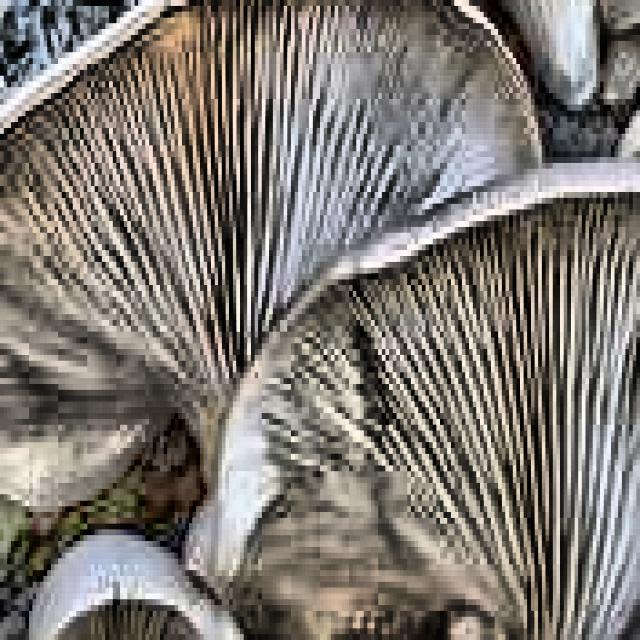Affected: (472, 232, 632, 640), (173, 22, 283, 363)
